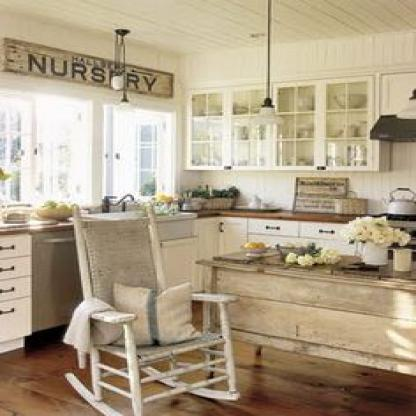chair: (57, 199, 245, 416)
